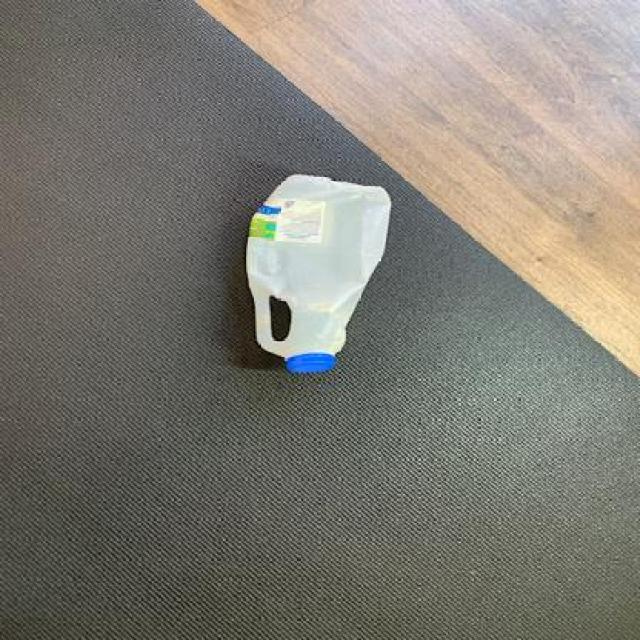trash: (243, 170, 394, 375)
